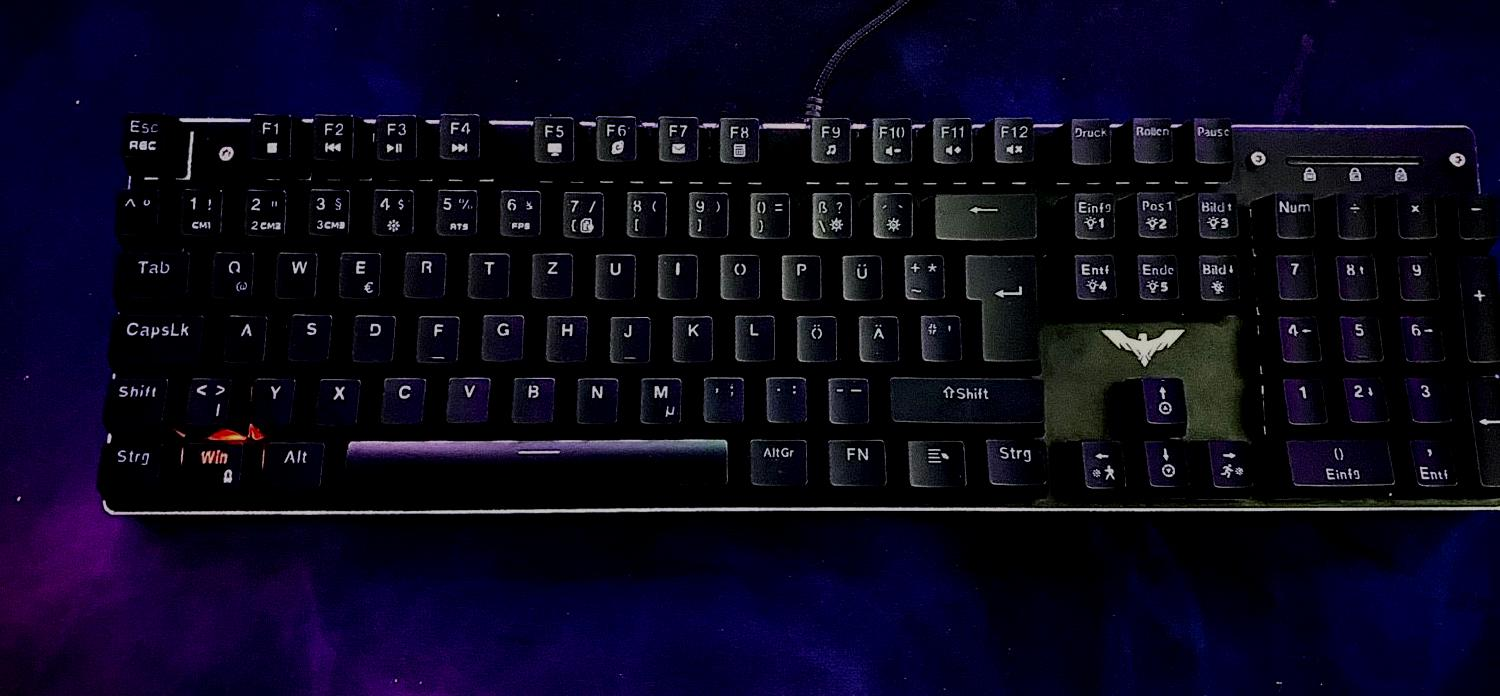0: (745, 189, 792, 238)
1: (175, 184, 224, 237)
2: (240, 185, 287, 237)
3: (303, 185, 351, 237)
4: (368, 186, 416, 237)
5: (430, 186, 479, 237)
6: (495, 185, 542, 238)
7: (558, 189, 605, 240)
8: (622, 189, 668, 238)
9: (683, 188, 730, 238)
a: (219, 310, 266, 362)
accent: (868, 189, 914, 237)
ae: (853, 310, 900, 361)
alt-left: (257, 437, 325, 488)
altgr-right: (745, 434, 809, 485)
b: (507, 372, 556, 422)
c: (377, 372, 426, 422)
caret: (113, 187, 159, 235)
comma: (699, 372, 744, 421)
d: (348, 310, 395, 361)
del: (930, 189, 1036, 238)
e: (334, 247, 381, 298)
enter: (962, 250, 1037, 362)
f: (413, 310, 459, 360)
g: (478, 310, 524, 360)
h: (542, 310, 589, 361)
hash: (916, 310, 961, 361)
i: (653, 249, 698, 298)
j: (605, 311, 650, 361)
k: (668, 310, 713, 361)
keyboard: (82, 108, 1500, 527)
l: (730, 310, 775, 360)
less: (182, 372, 230, 423)
m: (635, 373, 682, 423)
minus: (823, 373, 869, 423)
n: (572, 373, 619, 423)
o: (716, 249, 761, 299)
oe: (792, 310, 837, 361)
p: (777, 249, 822, 299)
plus: (900, 249, 945, 299)
point: (762, 373, 808, 420)
q: (206, 247, 253, 298)
r: (400, 247, 446, 297)
s: (284, 309, 331, 361)
shift-left: (100, 373, 168, 424)
shift-lock: (105, 309, 205, 361)
shift-right: (886, 372, 1043, 422)
space: (336, 436, 730, 487)
ss: (807, 189, 852, 238)
strg-left: (95, 437, 163, 489)
strg-right: (980, 435, 1048, 485)
t: (464, 247, 509, 297)
tab: (110, 247, 190, 297)
u: (591, 249, 637, 299)
ue: (837, 250, 882, 300)
v: (442, 372, 490, 421)
w: (271, 248, 317, 298)
x: (312, 374, 359, 424)
y: (247, 374, 293, 423)
z: (527, 248, 574, 298)
